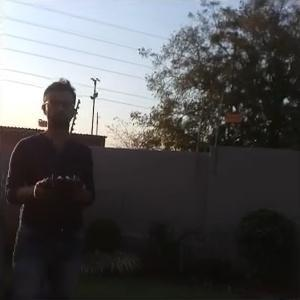follow: (2, 73, 94, 297)
